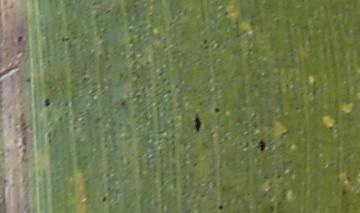tarspot: (189, 111, 206, 137), (254, 136, 271, 156), (59, 32, 73, 49), (40, 95, 54, 110), (200, 38, 213, 52), (118, 97, 130, 110), (99, 194, 111, 206), (212, 202, 228, 211), (14, 33, 27, 44), (211, 105, 223, 115), (232, 32, 244, 41), (103, 7, 113, 16)
